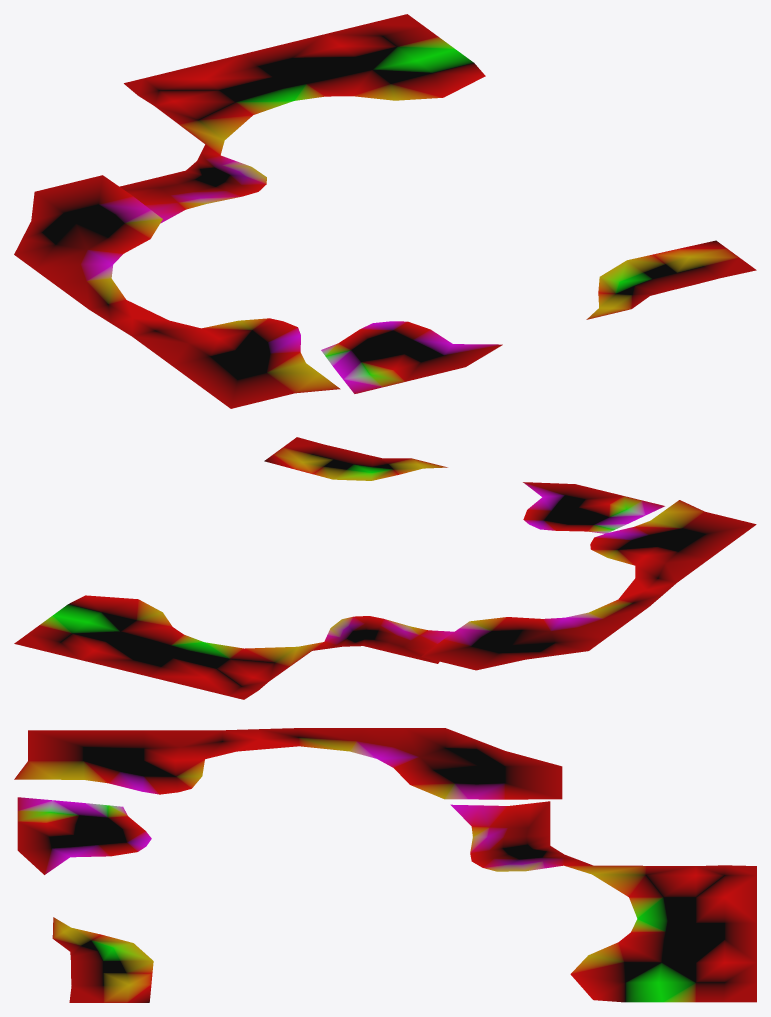
3 views of the same model, one above another, from view 1: azimuth 30°, elevation 25°; view 2: azimuth 150°, elevation 25°; view 3: azimuth 270°, elevation 25° (orthographic). The views are drawn at different scales.
Visible parts, largest first — view 1: G:\FFXIV-MapTools\exports\u5f1\bg\ex4\04_uvs_u5\fld\u5f1\bgp; view 2: G:\FFXIV-MapTools\exports\u5f1\bg\ex4\04_uvs_u5\fld\u5f1\bgp; view 3: G:\FFXIV-MapTools\exports\u5f1\bg\ex4\04_uvs_u5\fld\u5f1\bgp.
Boxes of the visible parts, box(x1,y1,x2,y2) form: G:\FFXIV-MapTools\exports\u5f1\bg\ex4\04_uvs_u5\fld\u5f1\bgp: box(14, 14, 756, 408); G:\FFXIV-MapTools\exports\u5f1\bg\ex4\04_uvs_u5\fld\u5f1\bgp: box(14, 437, 756, 699); G:\FFXIV-MapTools\exports\u5f1\bg\ex4\04_uvs_u5\fld\u5f1\bgp: box(14, 728, 756, 1002).
Size of the model in its own units: 534 by 9.47 by 633.
